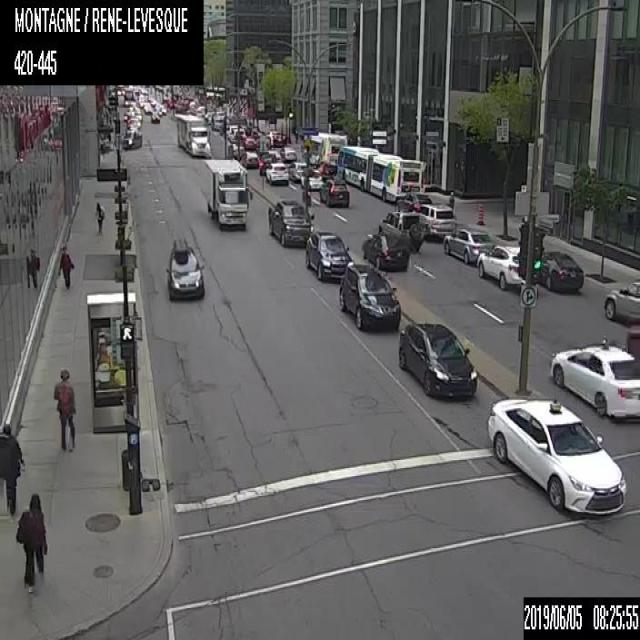bus: (336, 144, 425, 202), (304, 129, 348, 169)
construction: (476, 202, 484, 224)
pedestrian: (14, 492, 46, 593), (0, 422, 25, 514), (53, 367, 75, 449), (60, 244, 75, 288), (94, 200, 104, 235), (448, 190, 455, 210)
vehicle: (484, 394, 626, 514), (548, 341, 639, 424), (398, 322, 476, 399), (338, 263, 401, 329), (199, 156, 252, 232), (477, 242, 536, 291), (305, 229, 355, 280), (267, 198, 313, 247), (166, 243, 203, 300), (538, 247, 585, 290), (443, 226, 492, 264), (362, 232, 410, 270), (605, 276, 639, 329), (413, 200, 457, 240), (378, 210, 421, 250), (174, 112, 211, 157), (319, 177, 349, 206), (266, 161, 288, 185), (259, 150, 280, 175), (301, 168, 322, 189), (287, 160, 308, 180), (121, 129, 142, 147), (240, 150, 259, 167), (211, 110, 225, 129), (279, 146, 295, 160), (225, 123, 238, 137), (123, 89, 134, 105), (230, 128, 245, 139), (243, 137, 255, 148), (126, 118, 140, 127), (150, 111, 160, 122), (132, 111, 142, 121), (123, 110, 131, 122), (157, 104, 166, 114), (143, 105, 152, 113)
